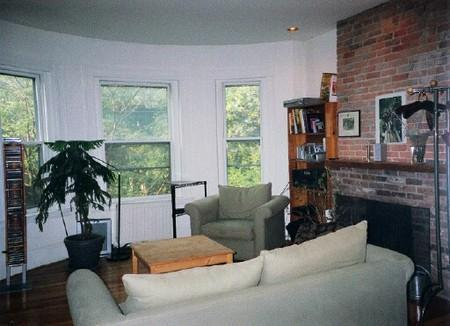Matera: (39, 134, 112, 270)
Ventana: (95, 80, 174, 197), (0, 73, 48, 206), (223, 83, 265, 183)
